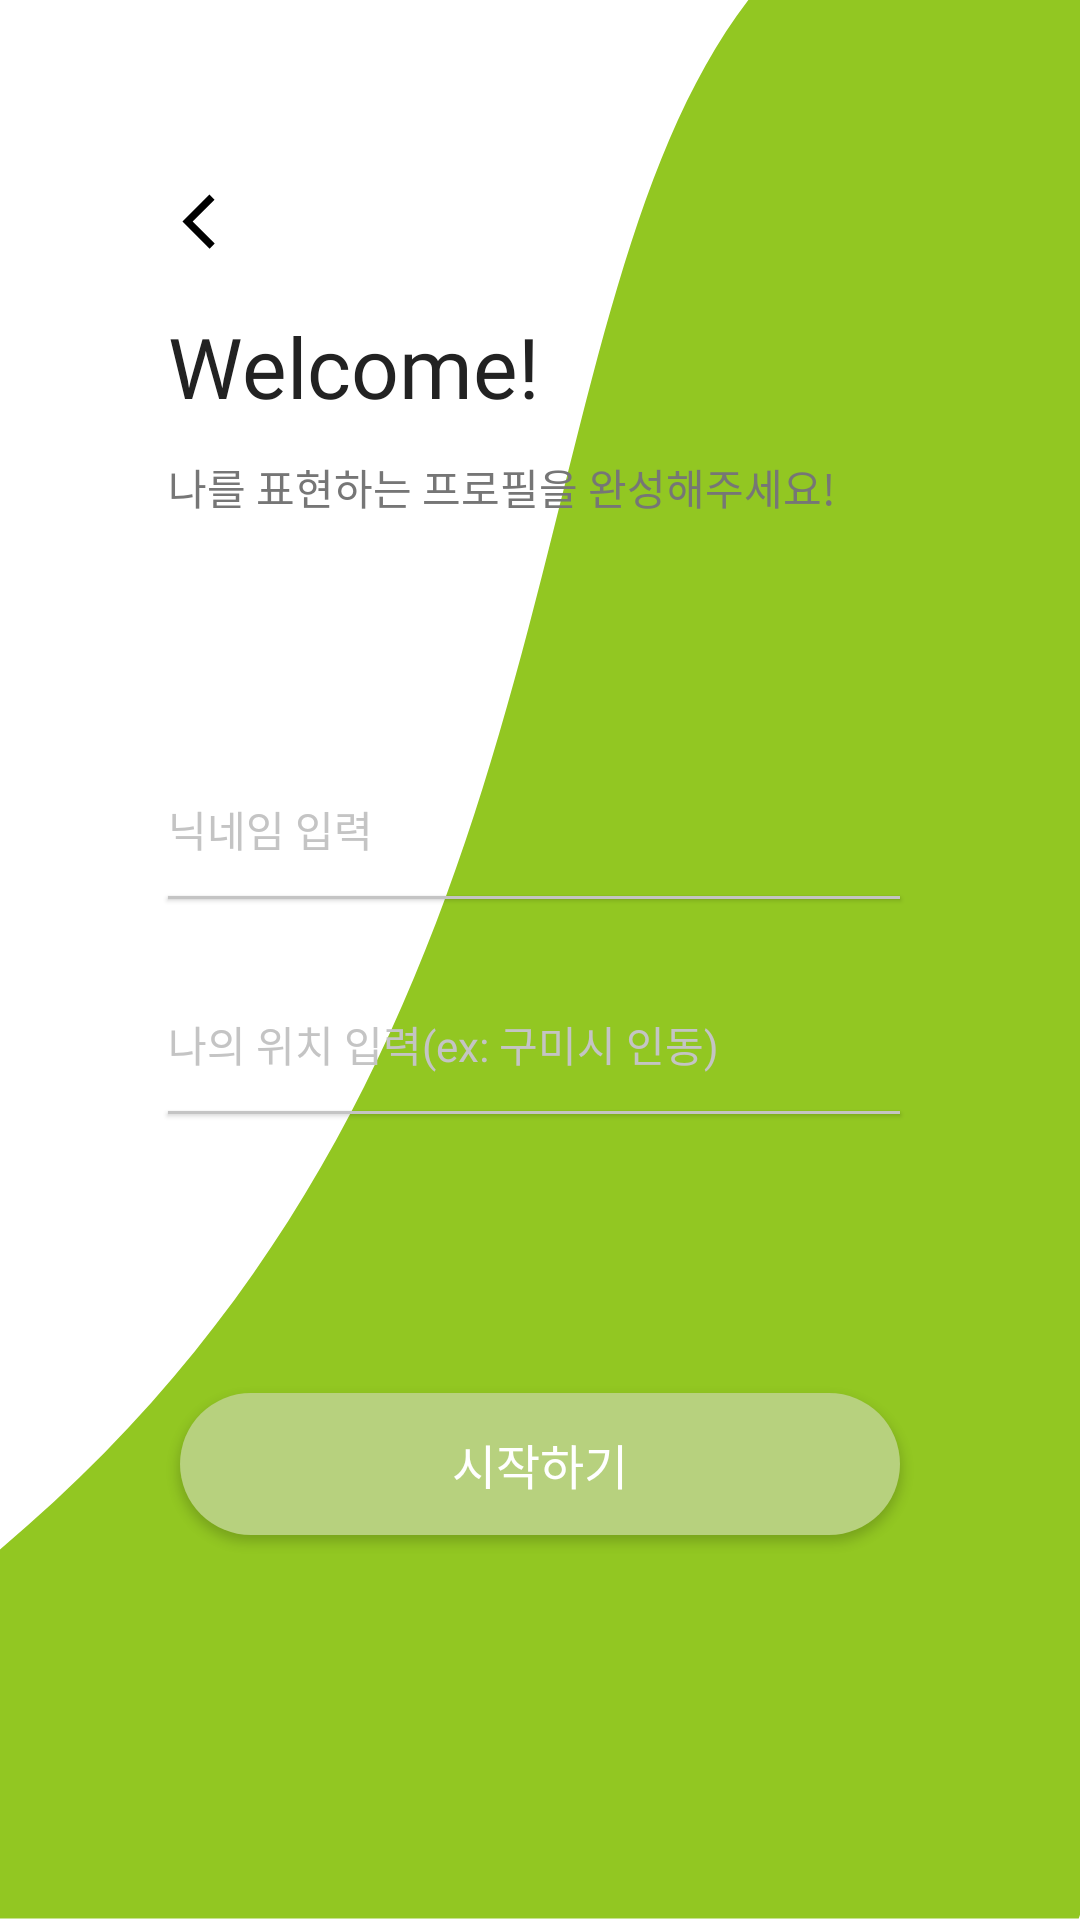

Where icons sit on this 1080×1920 app screen, as rect(x1, y1, x2, y2):
arrow back: rect(182, 194, 215, 249)
